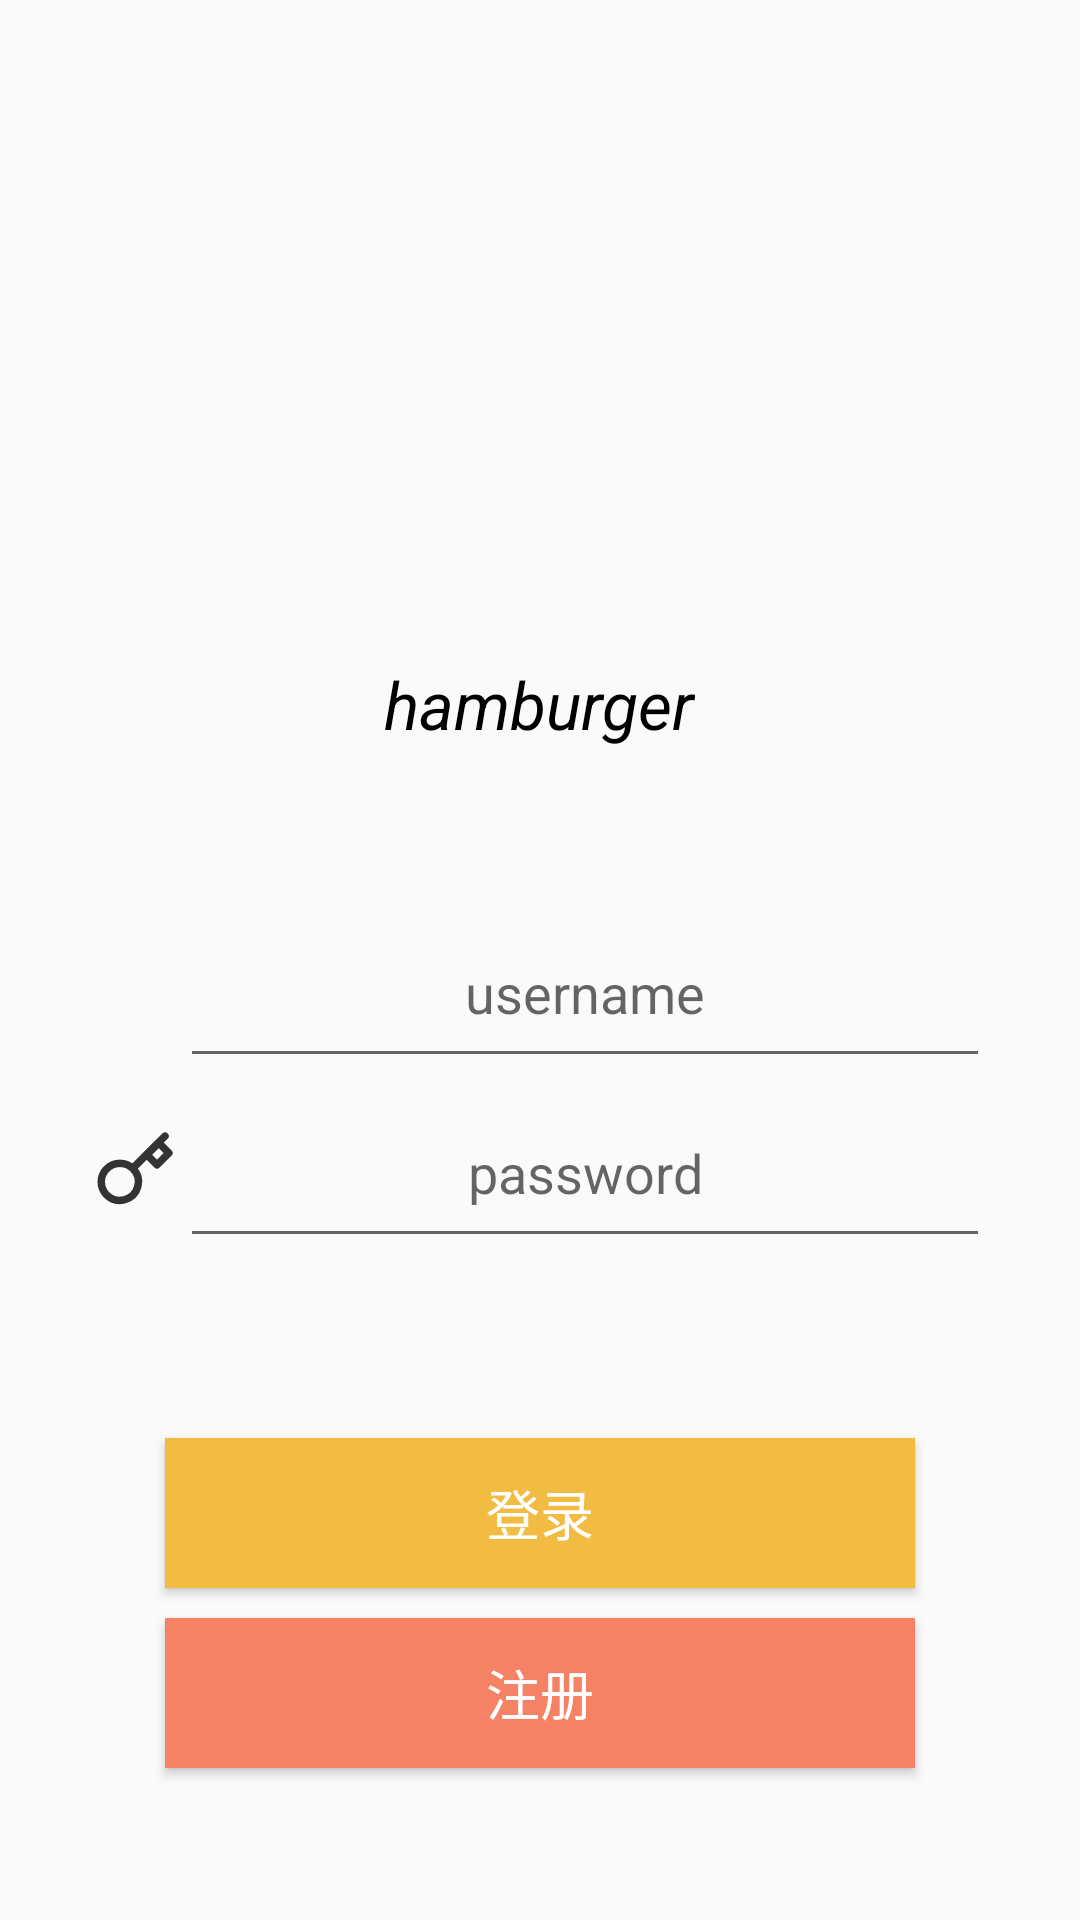

Point at icon controls on the screen. Image size 1080*1920, points as (x,y).
key: (135,1168)
